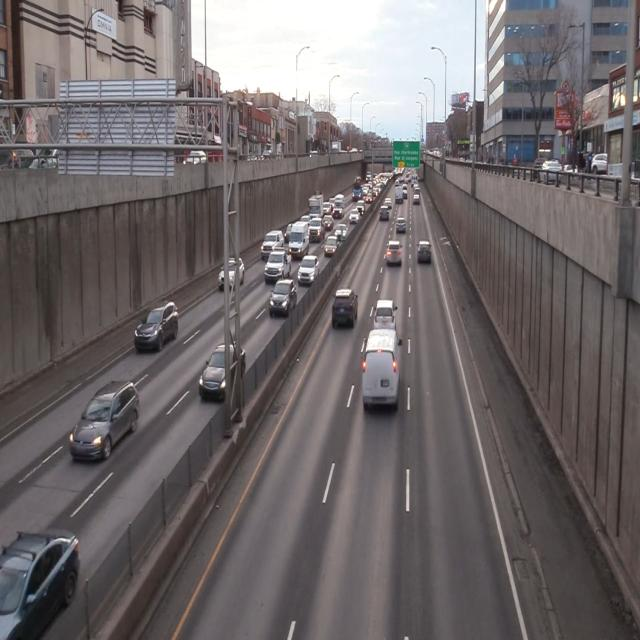Car: (69, 382, 143, 462), (360, 327, 406, 409), (200, 339, 246, 402), (136, 298, 181, 357), (330, 286, 362, 332), (374, 294, 400, 331), (381, 238, 406, 269)
